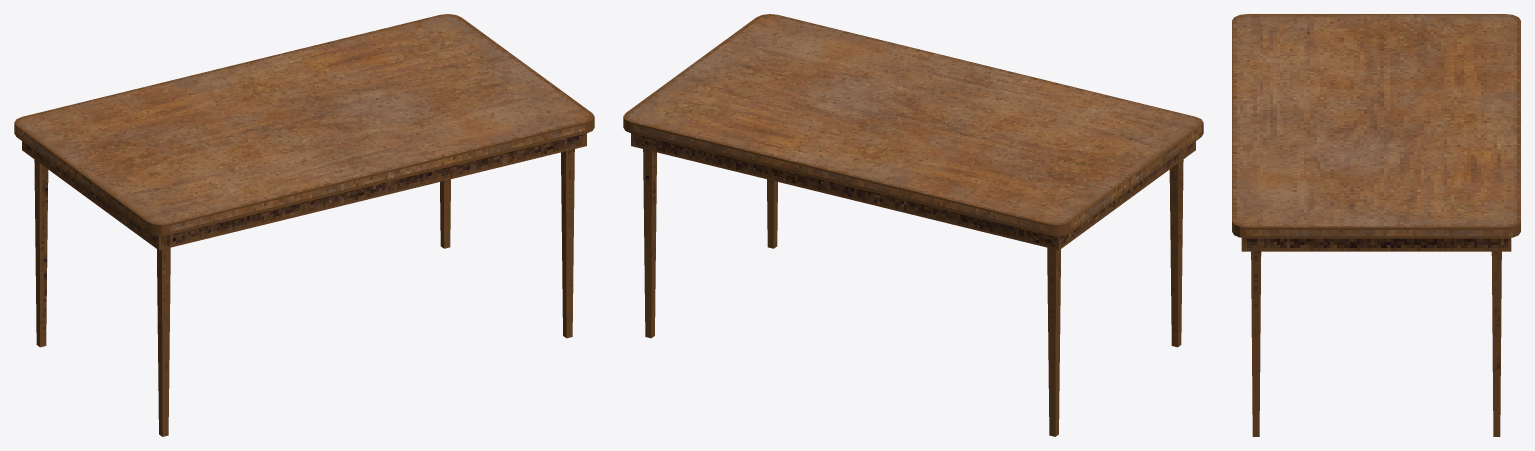
File: Table.glb
3 views of the same model, side by side, from view 1: azimuth 30°, elevation 25°; view 2: azimuth 150°, elevation 25°; view 3: azimuth 270°, elevation 25° (orthographic).
Visible parts, largest first — view 1: Table; view 2: Table; view 3: Table.
Part boxes in pixels (box(x1,y1,x2,y2)): Table: box(14, 14, 594, 436); Table: box(623, 14, 1203, 436); Table: box(1232, 14, 1520, 436).
Bounding box in the file's own units: 1.26 × 0.5988 × 0.72.
1 material, 1 textured.
